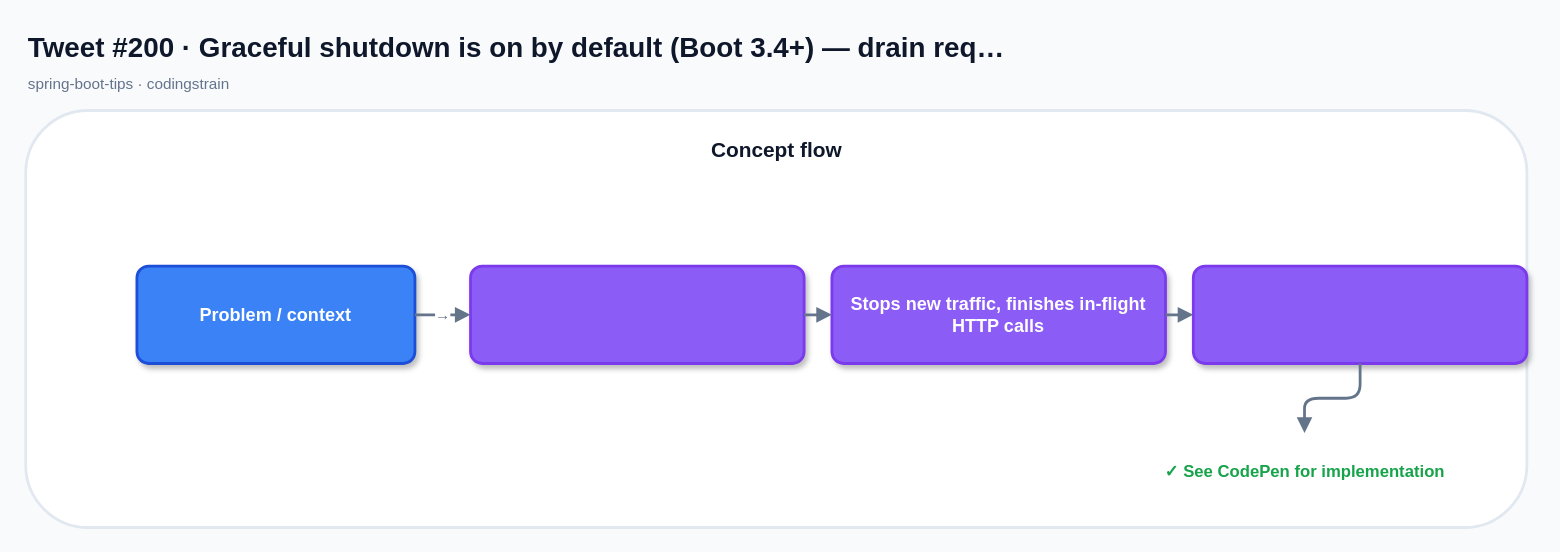
This 1560x552 diagram has some shape labels left out. The centre of each missing label's shape, as x and y in pixels:
Tune the wait: `spring.lifecycle.timeout-per-shutdown-phase`: the point at 1361,316
💡 Graceful shutdown is on by default (Boot 3.4+) — drain requests befo: the point at 638,316
